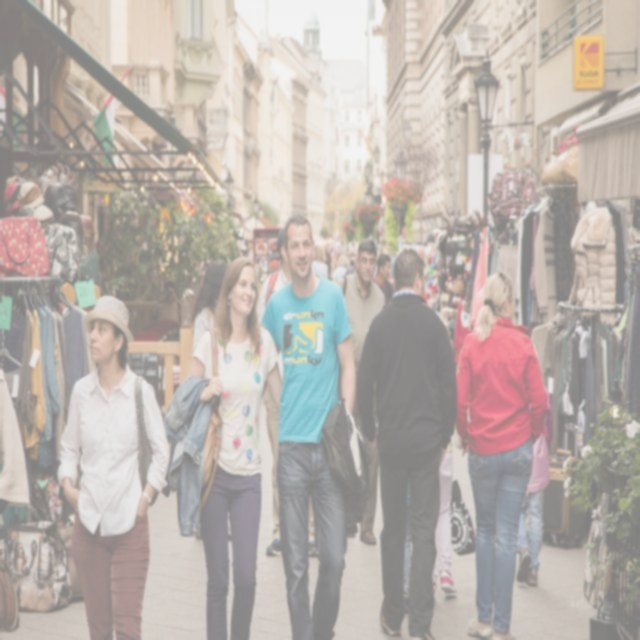pessoa: (352, 246, 461, 640), (258, 211, 358, 639), (52, 292, 173, 640), (185, 254, 282, 638), (452, 270, 550, 640), (254, 226, 318, 560), (337, 237, 387, 546), (514, 379, 552, 589), (0, 362, 32, 518), (190, 257, 232, 354), (312, 234, 358, 294), (370, 252, 394, 304)
